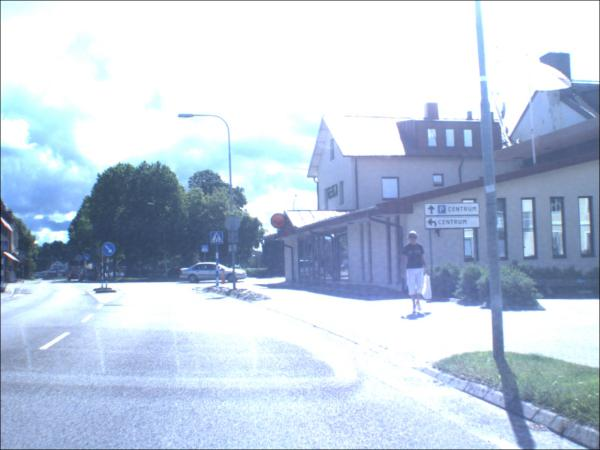PASS_RIGHT_SIDE: (104, 243, 118, 258), (84, 254, 93, 263)
PEDESTRIAN_CROSSING: (212, 233, 225, 246), (203, 247, 211, 254)
